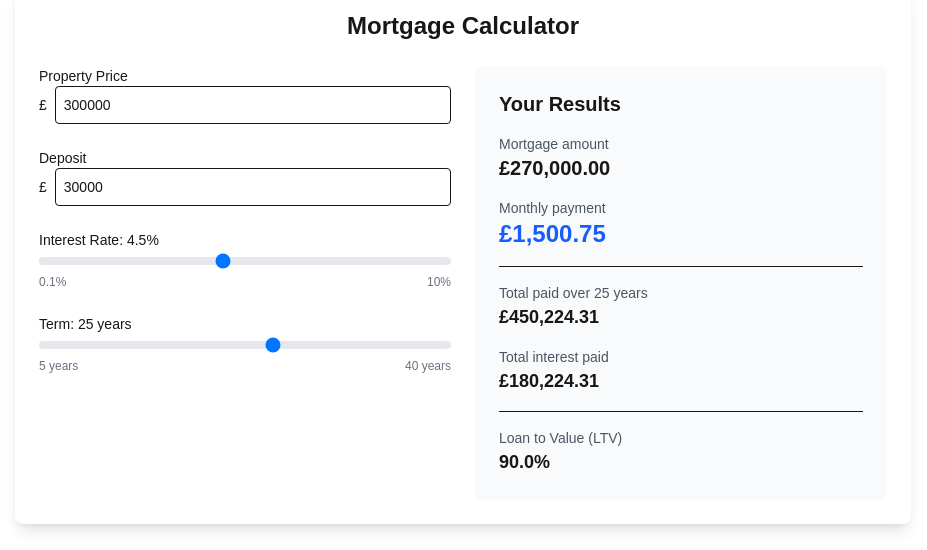
Test: MortgageCalculator › updates calculations when deposit changes
This screenshot has width=927, height=550.
Replace the text in the number field labelled "Deposit" with "100000" at x=253, y=187, box [55,168,451,206]
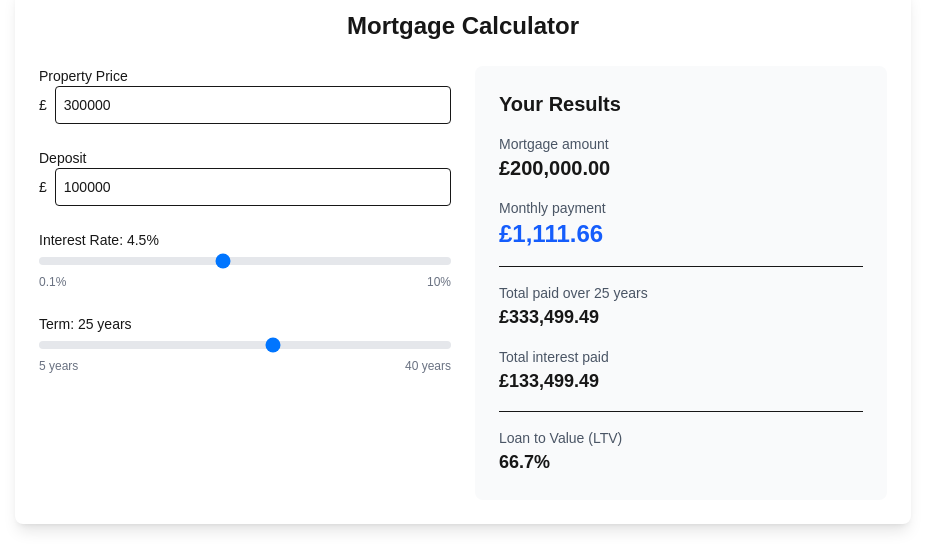
Result: the text "£200,000.00" is shown at [499,157,610,179]
Result: the text "£1,111.66" is shown at [499,220,603,247]
